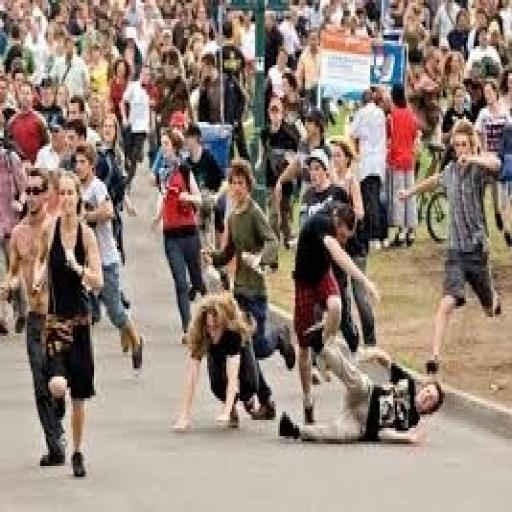running: (395, 116, 510, 380), (29, 168, 107, 479), (276, 339, 447, 447)
